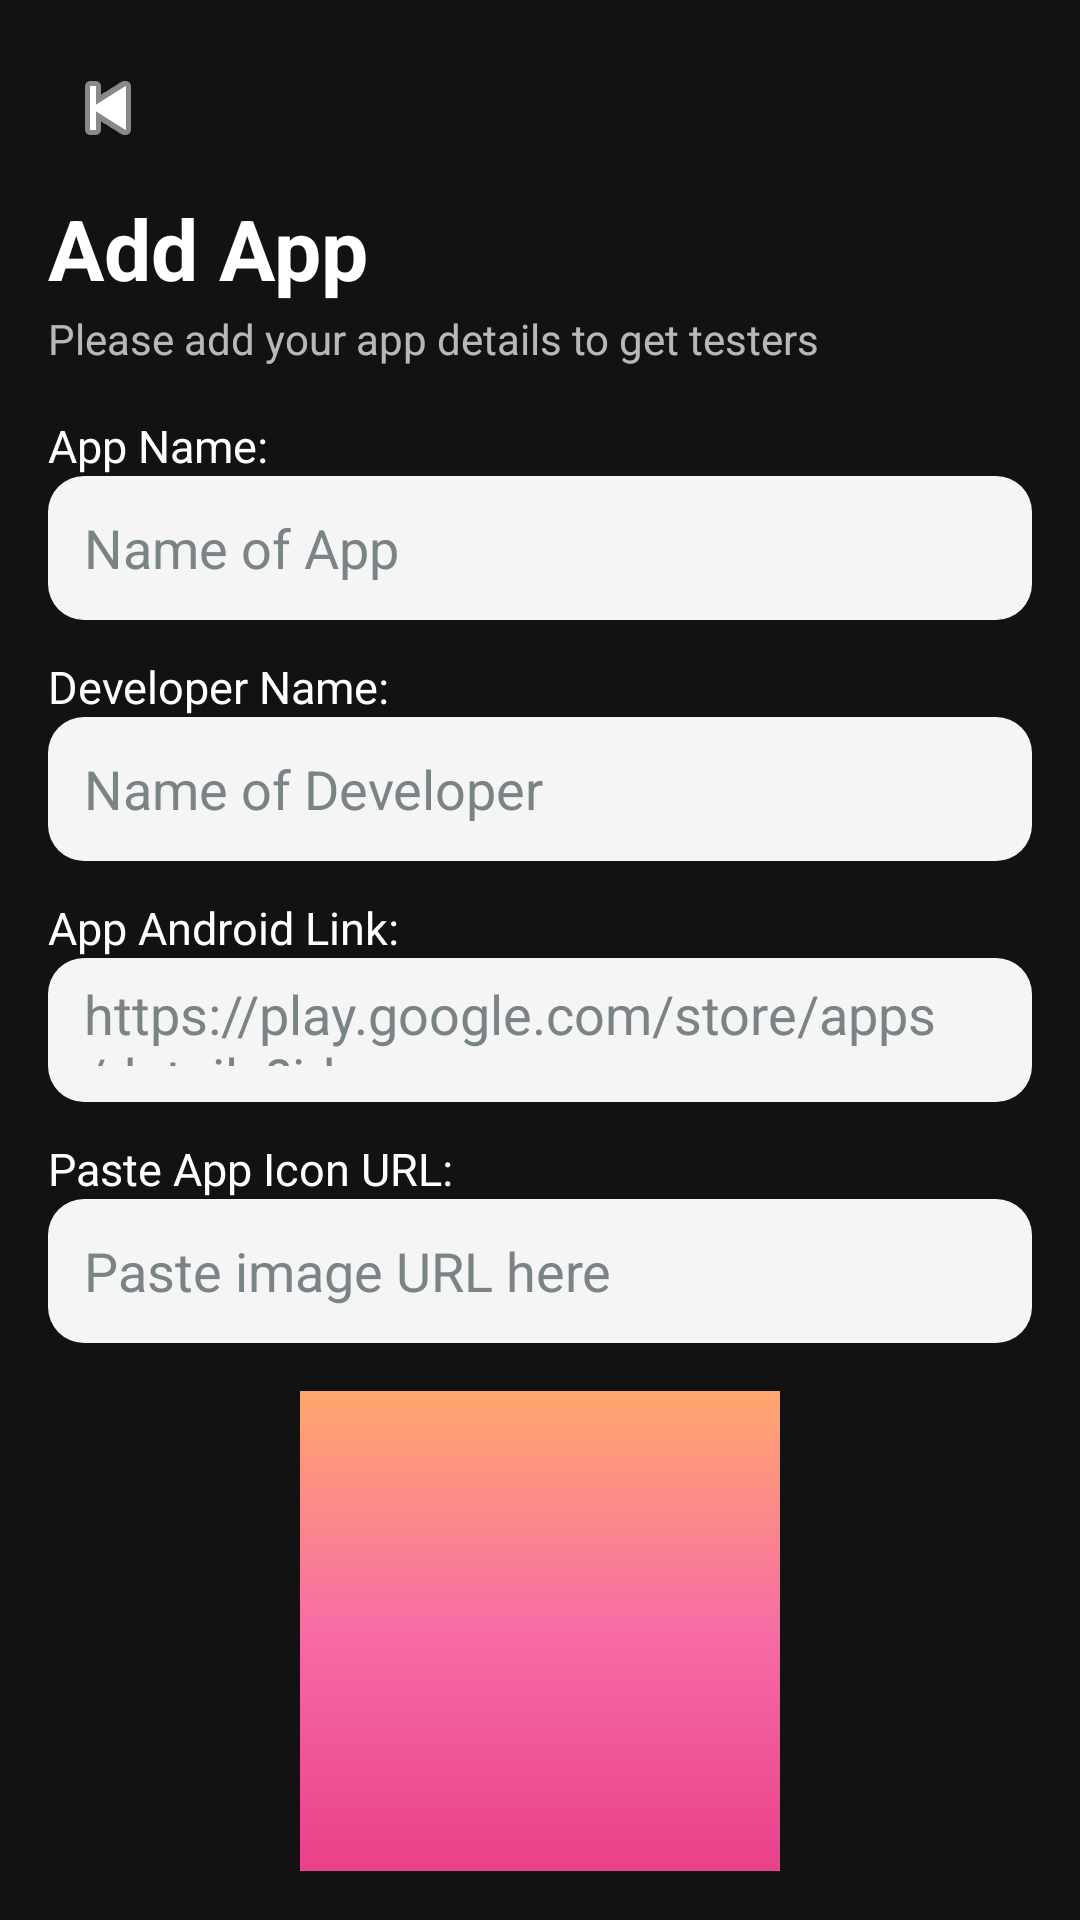

Point at icon controls on the screen. Image size 1080x1920, points as [x,y].
Back: [108,108]
